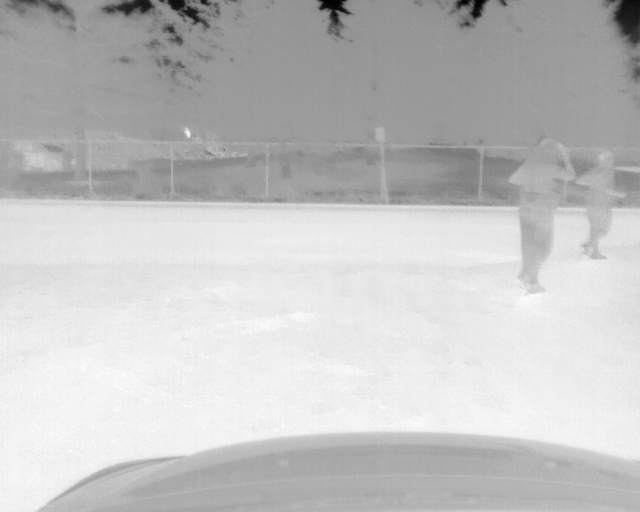people: (506, 138, 574, 295), (575, 150, 626, 261)
